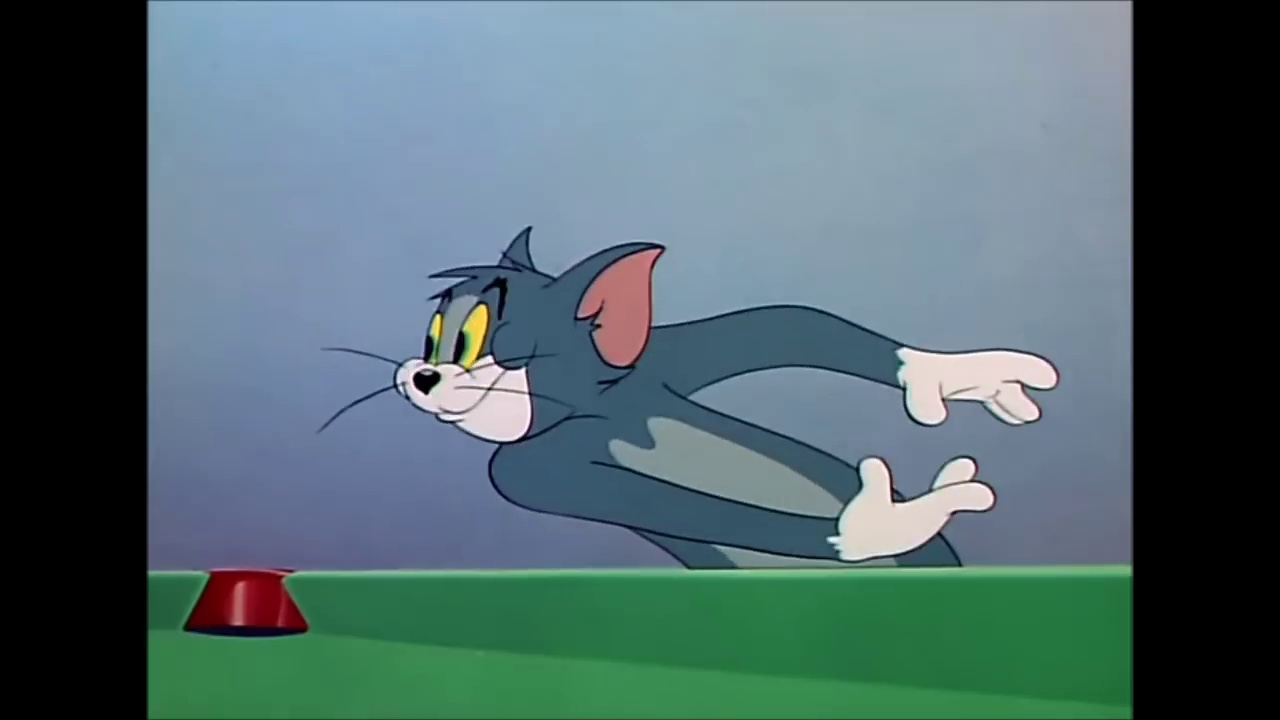happy: (421, 269, 518, 449)
